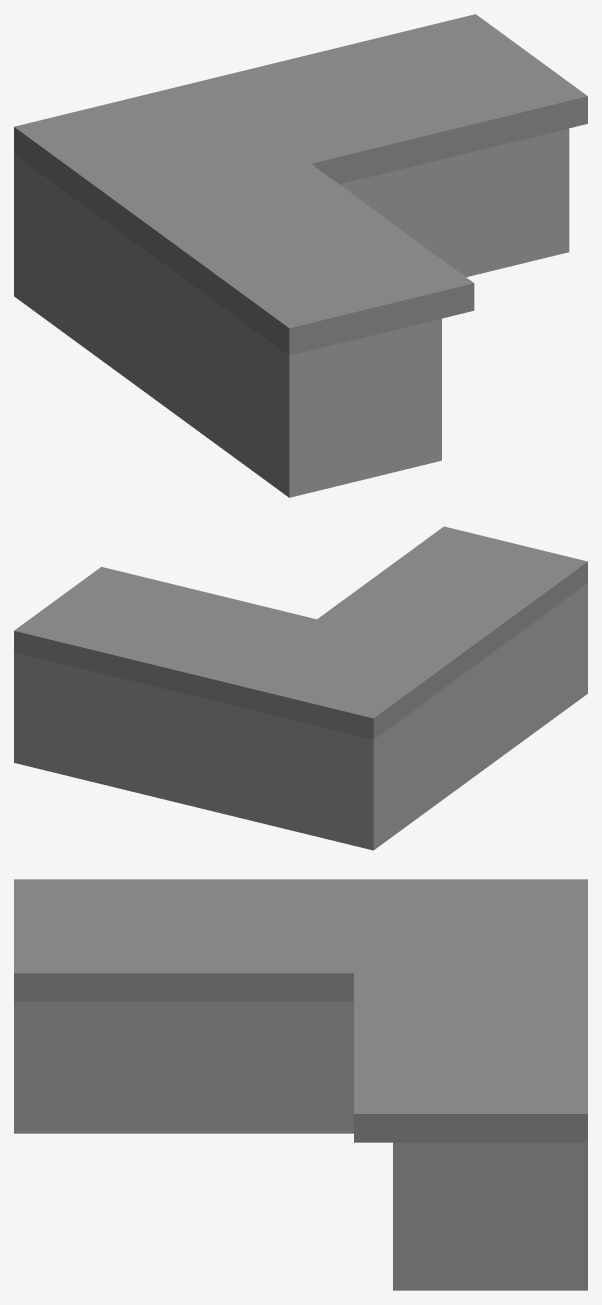
Rendered from countertop_corner.fbx.
3 renders of one model, top to bottom at view 1: azimuth 30°, elevation 25°; view 2: azimuth 150°, elevation 25°; view 3: azimuth 270°, elevation 25°, orthographic. The views are drawn at different scales.
Visible parts, largest first — view 1: Cube.001; view 2: Cube.001; view 3: Cube.001.
Boxes of the visible parts, x1,y1,x2,y2 form: Cube.001: (14,14,587,497); Cube.001: (14,526,587,850); Cube.001: (14,879,587,1290).
Bounding box in the file's own units: 570 × 200 × 589.
